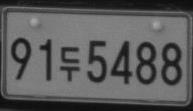1: (37, 37, 57, 80)
4: (109, 39, 133, 84)
5: (86, 39, 107, 83)
8: (160, 41, 183, 86), (135, 40, 157, 85)
9: (10, 36, 32, 80)
두: (58, 45, 80, 81)
